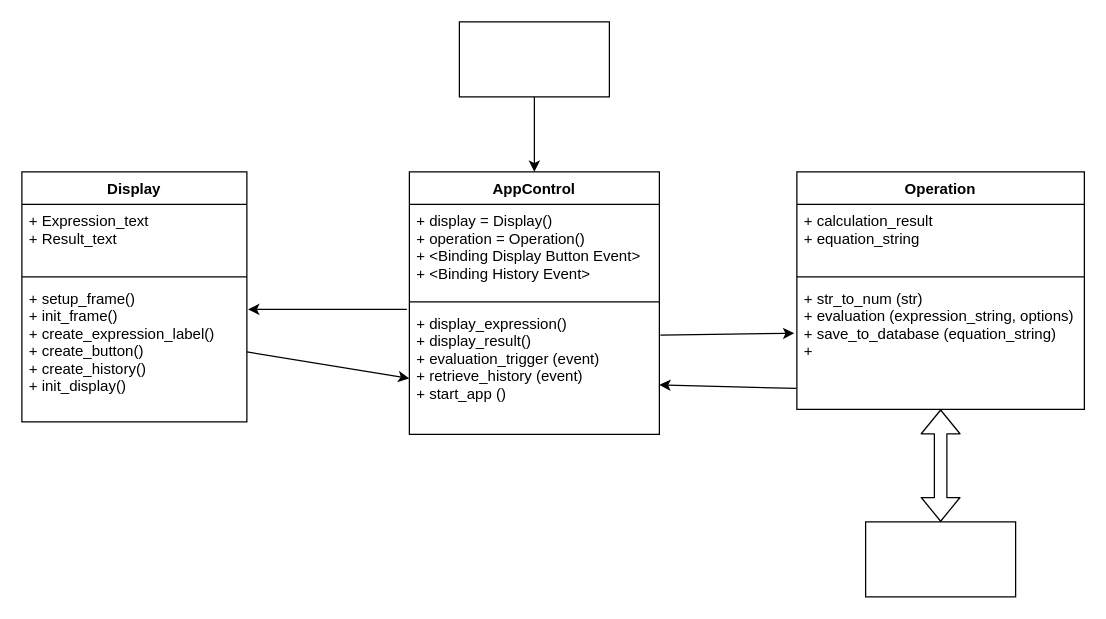
Some shapes in this 1106 by 619 pixel diagram are drawn without their labels. The shapes that lost their labels are listed below. From the top down, each one's centre as x and y in pixels, then its label:
At point 533,59: "Start Program".
At point 940,559: "DATABASE".
